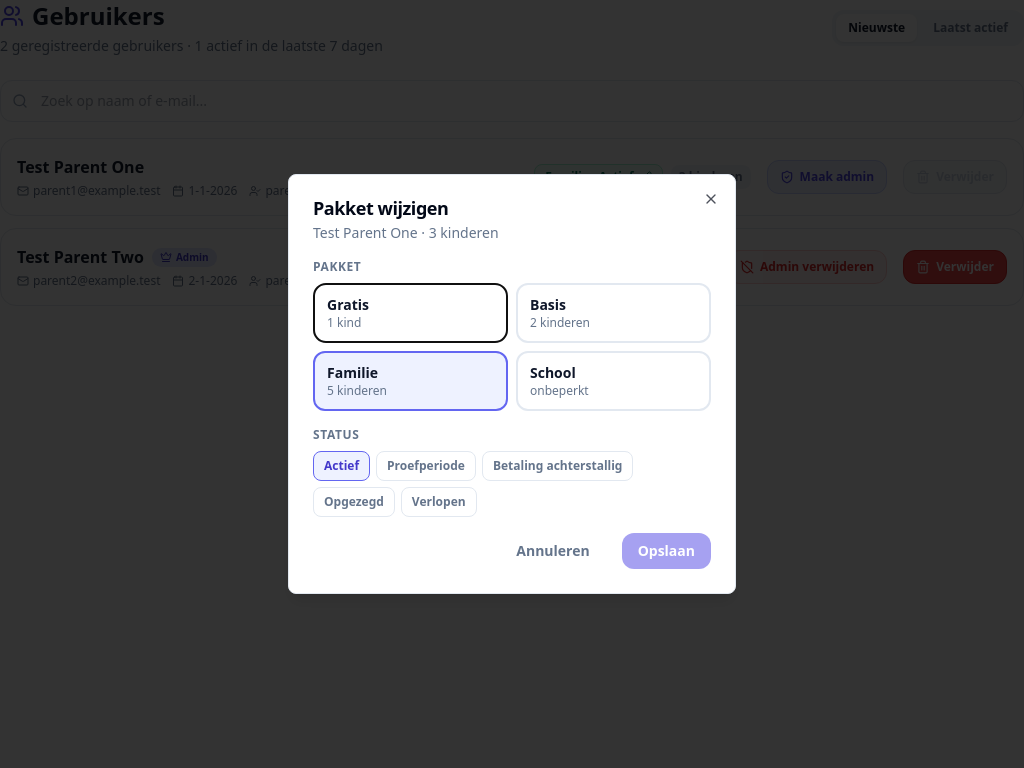
Test case: AdminUsers › switching package › warns how many children get paused when the new package allows fewer
The image size is (1024, 768).
Earlier steps of the test are not shown.
Check: the radio button labelled "Familie 5 kinderen" is shown, box [313,351,508,411]
Check: the text "gepauzeerd" is not shown
Click the radio button labelled "Basis 2 kinderen".
click(614, 313)  # box [516,283,711,343]
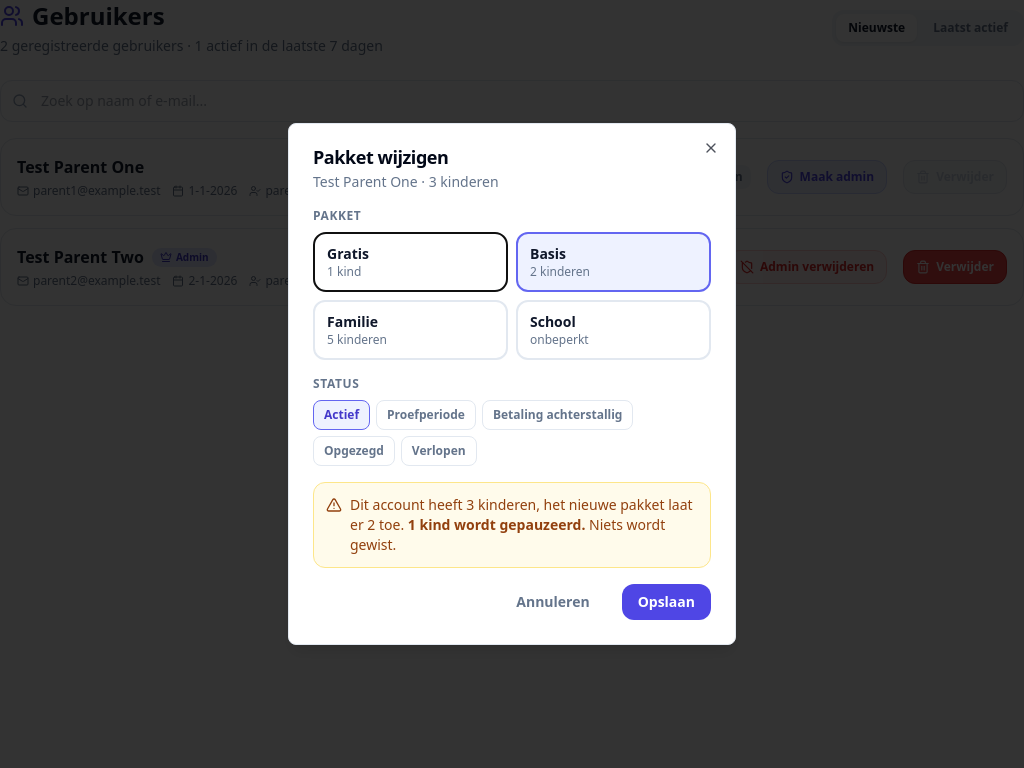
Check: the text "1 kind wordt gepauzeerd." is shown, box [408,515,585,534]
Click the radio button labelled "Gratis 1 kind".
click(410, 262)  # box [313,232,508,292]
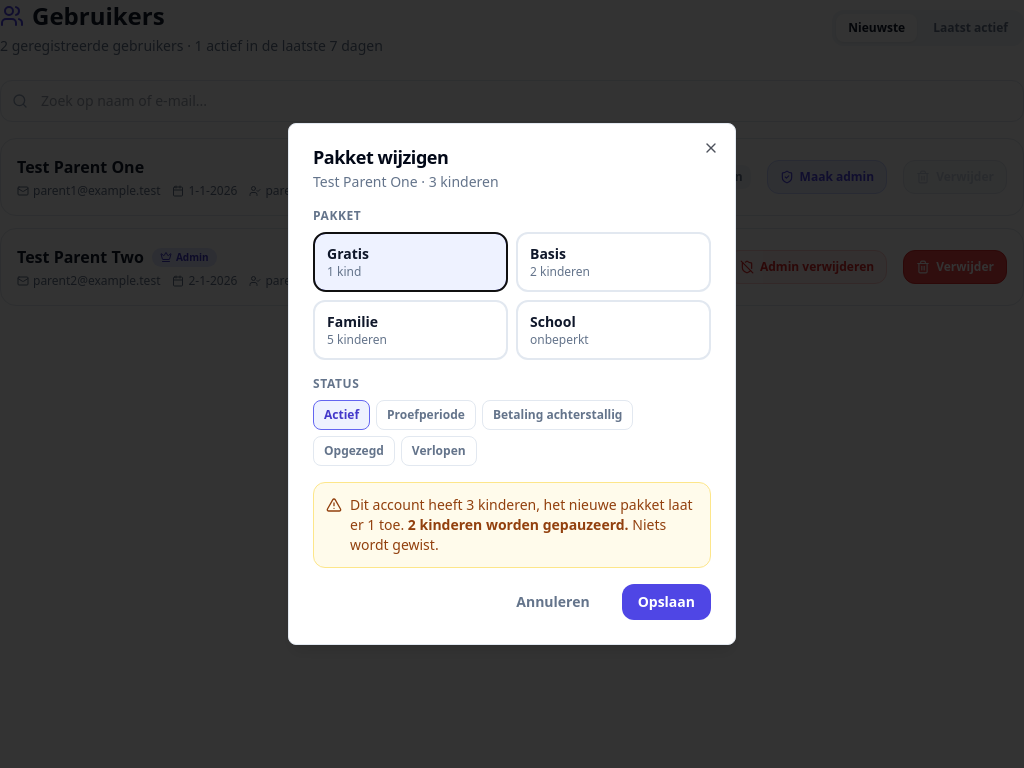
Check: the text "2 kinderen worden gepauzeerd." is shown, box [408,515,629,534]
Click the radio button labelled "Familie 5 kinderen".
click(410, 330)  # box [313,300,508,360]
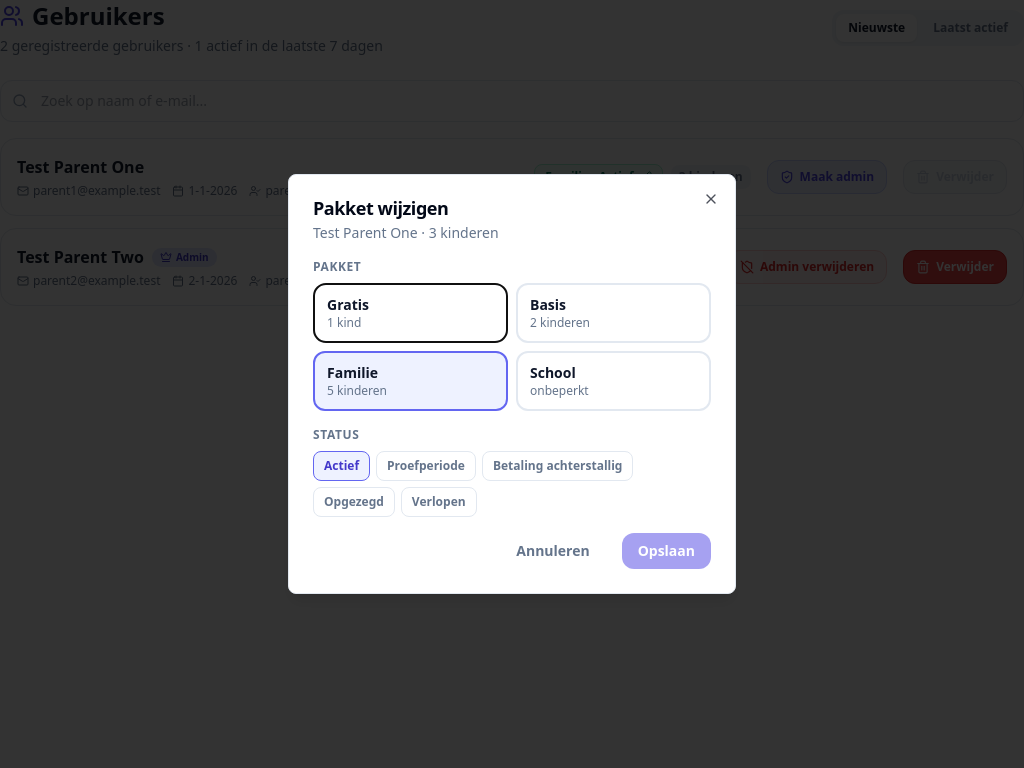
Click the radio button labelled "Opgezegd".
click(354, 502)  # box [313,487,395,517]
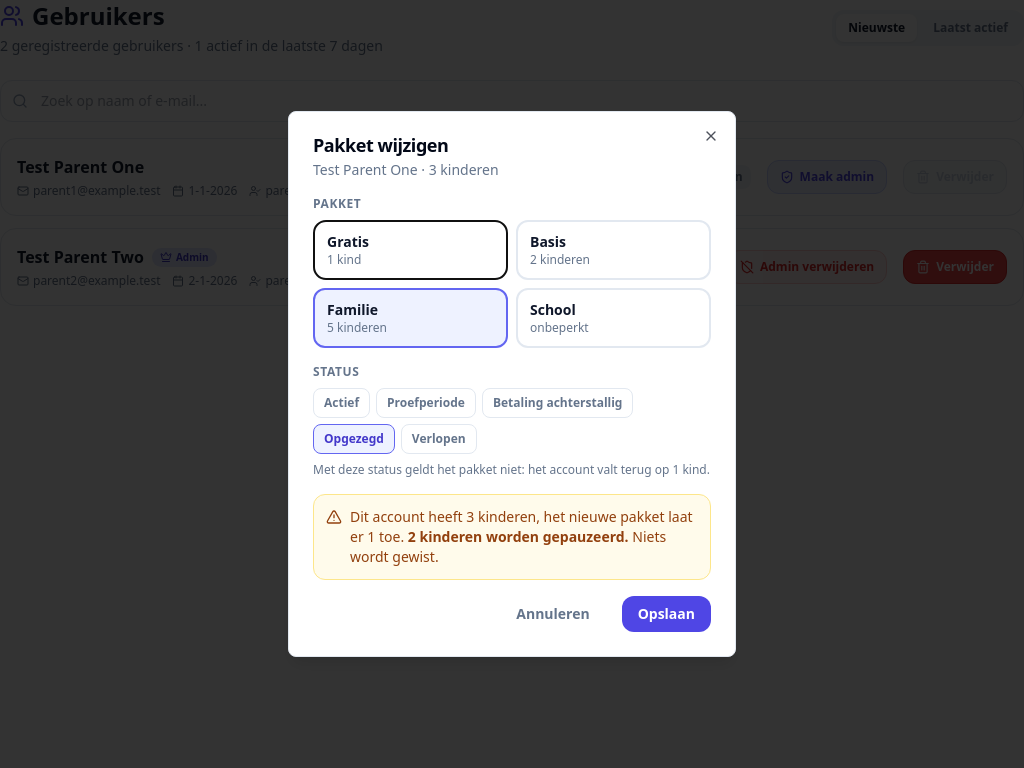
Check: the text "2 kinderen worden gepauzeerd." is shown, box [408,527,629,546]
